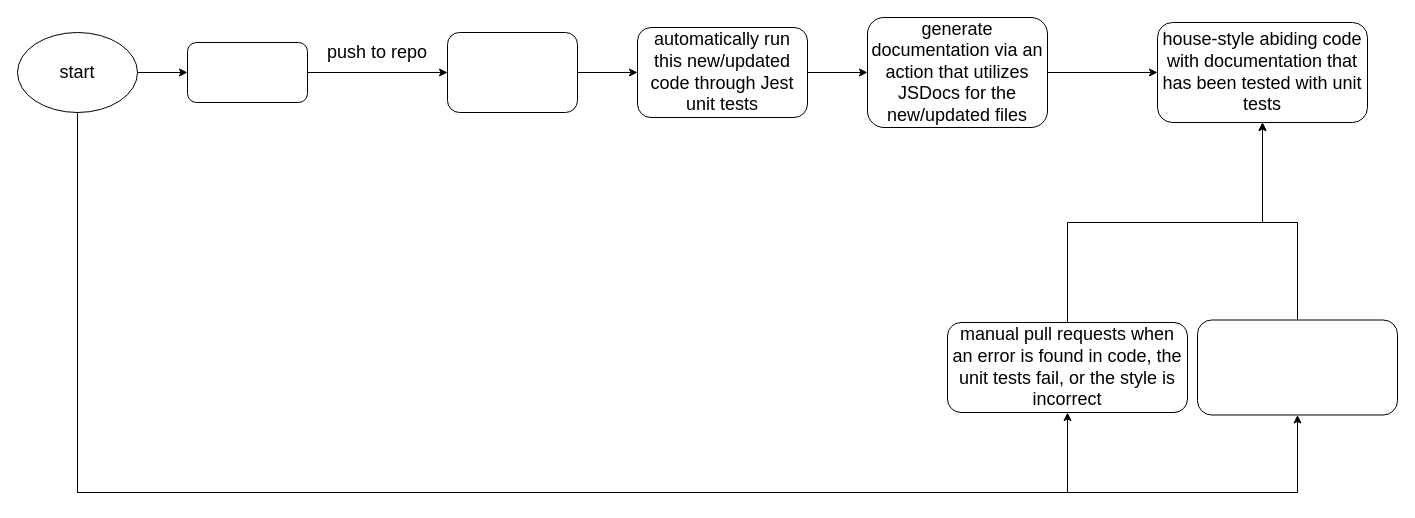
Some shapes in this 1415 by 518 pixel diagram are drawn without their labels. Here are the shapes that lost their labels. From the top down, the box of each, then its label:
(186, 42, 308, 102): new/updated javascript file
(446, 32, 578, 112): automatically depoly lint action in repo
(1196, 319, 1398, 415): run the repo through Codeclimate every so often to ensure high-quality code
